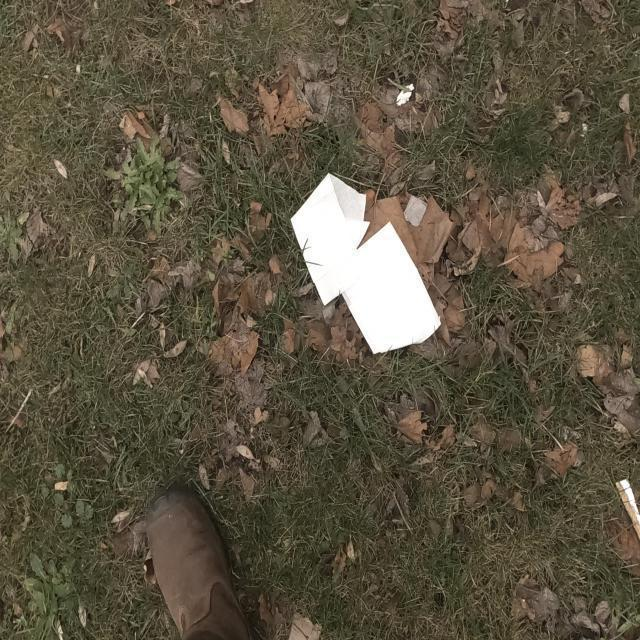Paper: (341, 220, 441, 354), (290, 172, 371, 306)
